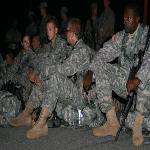Senapan: (104, 48, 144, 146)
